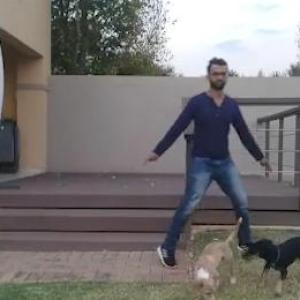land: (139, 69, 263, 274)
